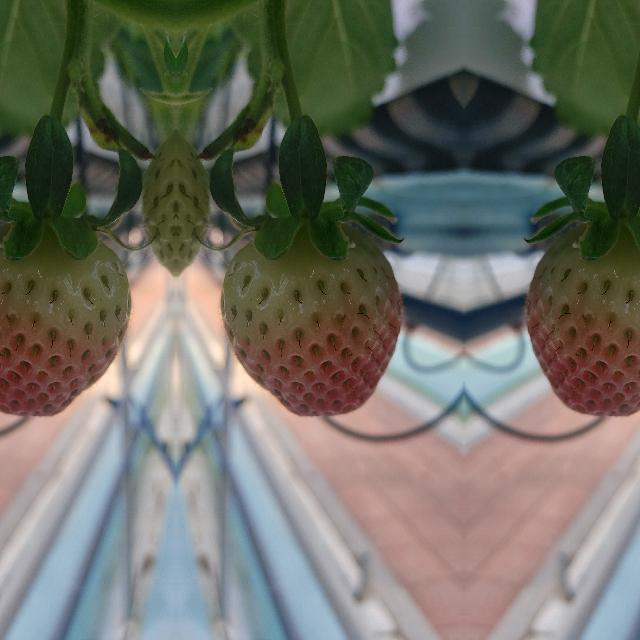Health_50: (219, 224, 401, 416), (0, 223, 131, 416), (525, 223, 640, 416)
